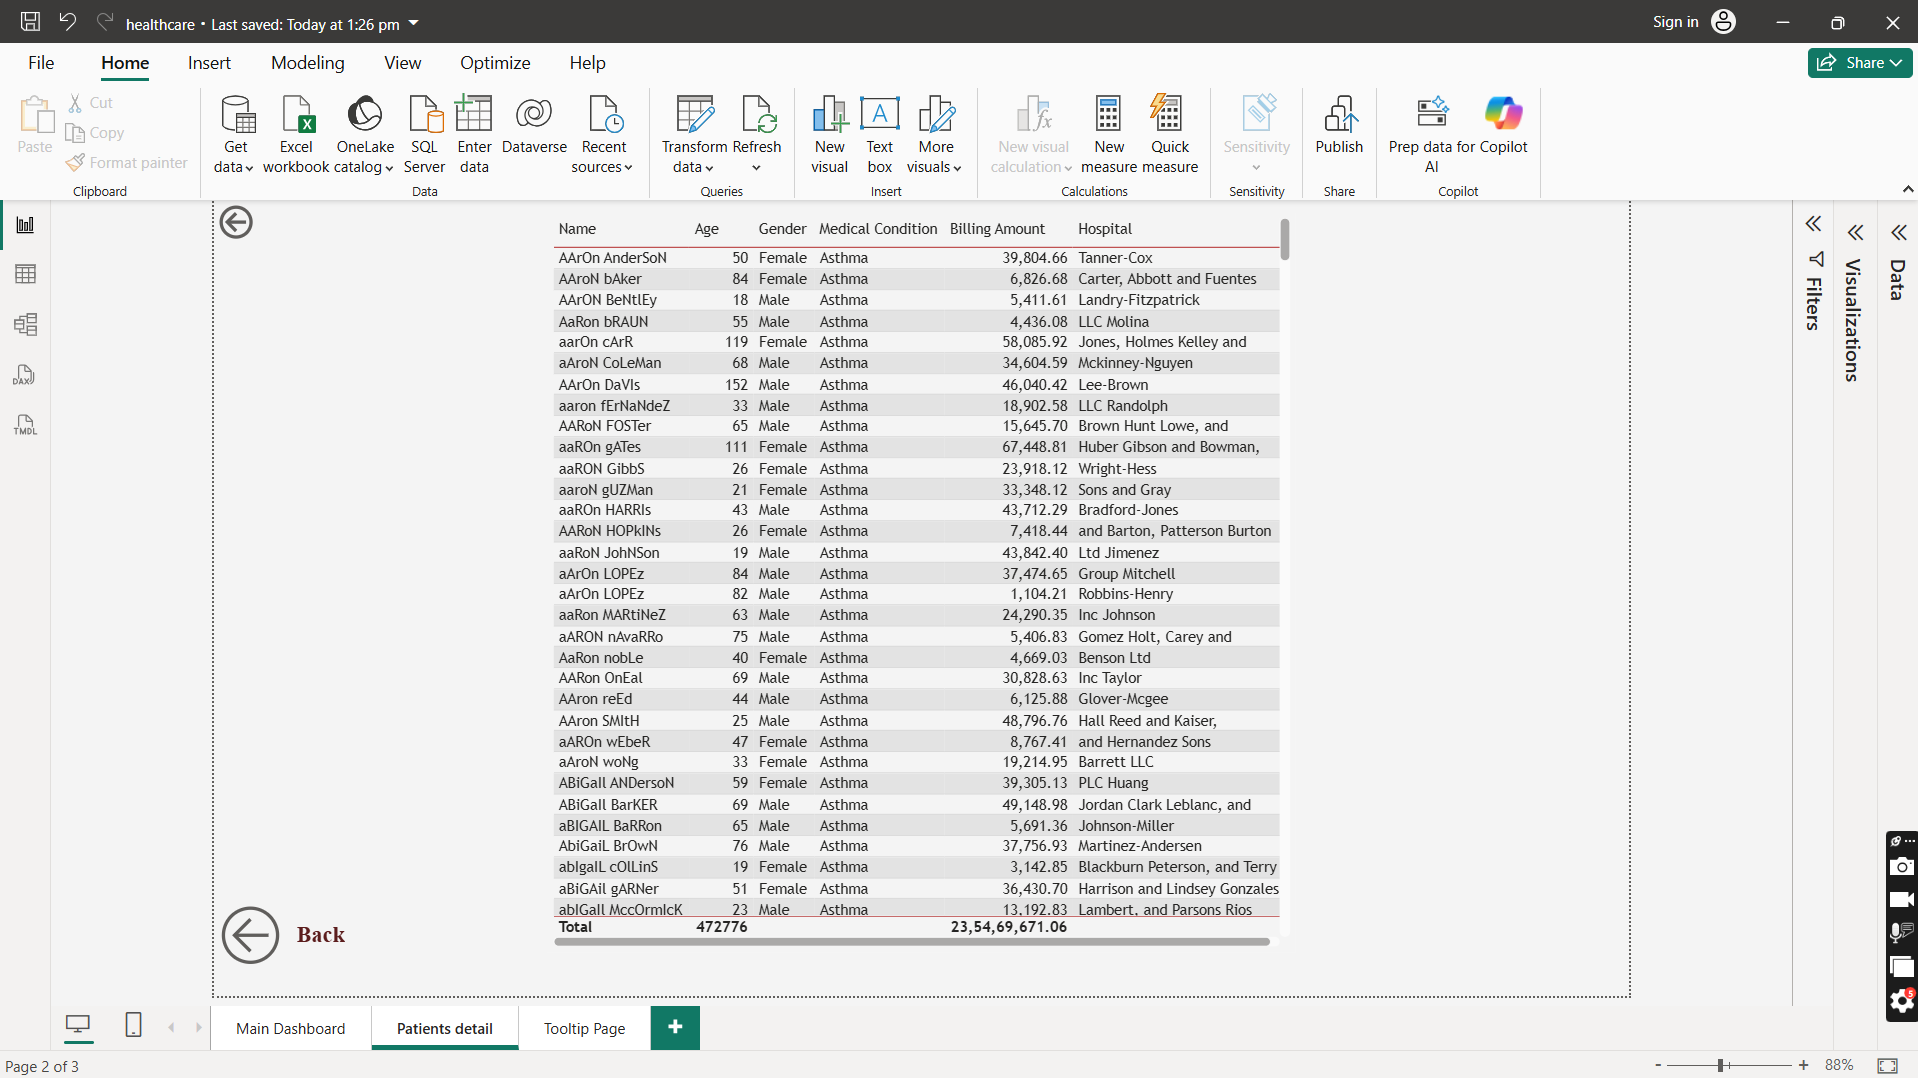

This screenshot's page, from the dashboard's own definition file:
{"tool":"powerbi","page":{"name":"Patients detail","canvas":[1280,720],"ordinal":1},"visuals":[{"type":"tableEx","fields":{"Values":["healthcare_dataset.Name","Sum(healthcare_dataset.Age)","healthcare_dataset.Gender","healthcare_dataset.Medical Condition","Sum(healthcare_dataset.Billing Amount)","healthcare_dataset.Hospital"]},"box":[300.5,11.1,677.6,669.2],"z":0},{"type":"actionButton","box":[0,0,100,40],"z":1000},{"type":"actionButton","box":[0,632.2,192.9,66],"z":2000}]}

Visuals, with their boxes on the page's 1280x720 design canvas (x1, y1, x2, y2). These are canvas units, not pixel positions in the 1918x1078 screenshot, which may show the page scaled, cropped or inside an application window:
tableEx - healthcare_dataset.Name x Sum(healthcare_dataset.Age): bbox=(300, 11, 978, 680)
actionButton: bbox=(0, 0, 100, 40)
actionButton: bbox=(0, 632, 193, 698)
